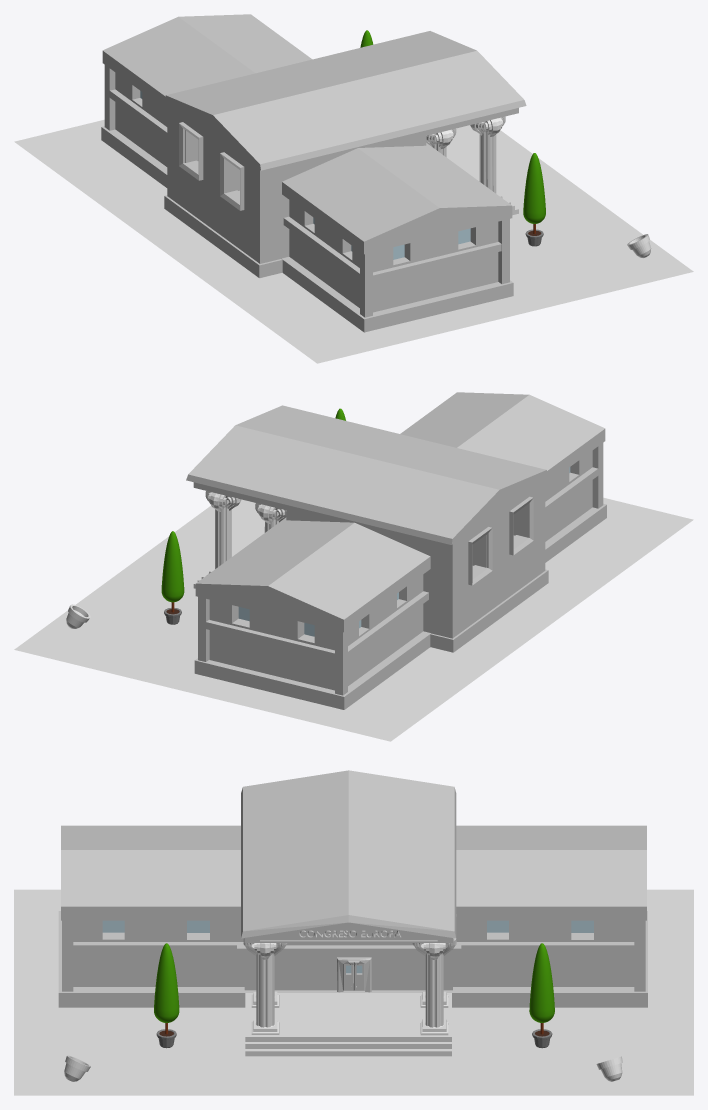
File: congreso.dae
3 renders of one model, top to bottom at view 1: azimuth 30°, elevation 25°; view 2: azimuth 150°, elevation 25°; view 3: azimuth 270°, elevation 25°, orthographic. The views are drawn at different scales.
Parts seen in each view (by area): view 1: suelo, casa1, tejado1, tejado2, columna1, arbol1; view 2: suelo, casa1, tejado1, tejado2, arbol2, columna; view 3: suelo, casa1, tejado2, tejado1, escala, columna1, arbol2, arbol1, columna, casa1_001.
Part boxes in pixels (<box>): suelo: <box>14,119,693,363</box>; casa1: <box>101,65,513,332</box>; tejado1: <box>165,31,526,176</box>; tejado2: <box>102,14,512,254</box>; columna1: <box>426,116,505,199</box>; arbol1: <box>523,153,545,246</box>; suelo: <box>14,497,693,741</box>; casa1: <box>194,443,606,709</box>; tejado1: <box>186,405,547,550</box>; tejado2: <box>195,392,605,632</box>; arbol2: <box>161,531,184,624</box>; columna: <box>214,496,231,569</box>; suelo: <box>14,889,693,1095</box>; casa1: <box>58,911,647,1007</box>; tejado2: <box>61,825,646,920</box>; tejado1: <box>241,770,456,942</box>; escala: <box>245,993,451,1056</box>; columna1: <box>243,914,456,1034</box>; arbol2: <box>529,943,554,1048</box>; arbol1: <box>154,943,179,1048</box>; columna: <box>425,953,444,1027</box>; casa1_001: <box>102,920,593,973</box>.
Bounding box in the file's own units: 396 × 552 × 129.
